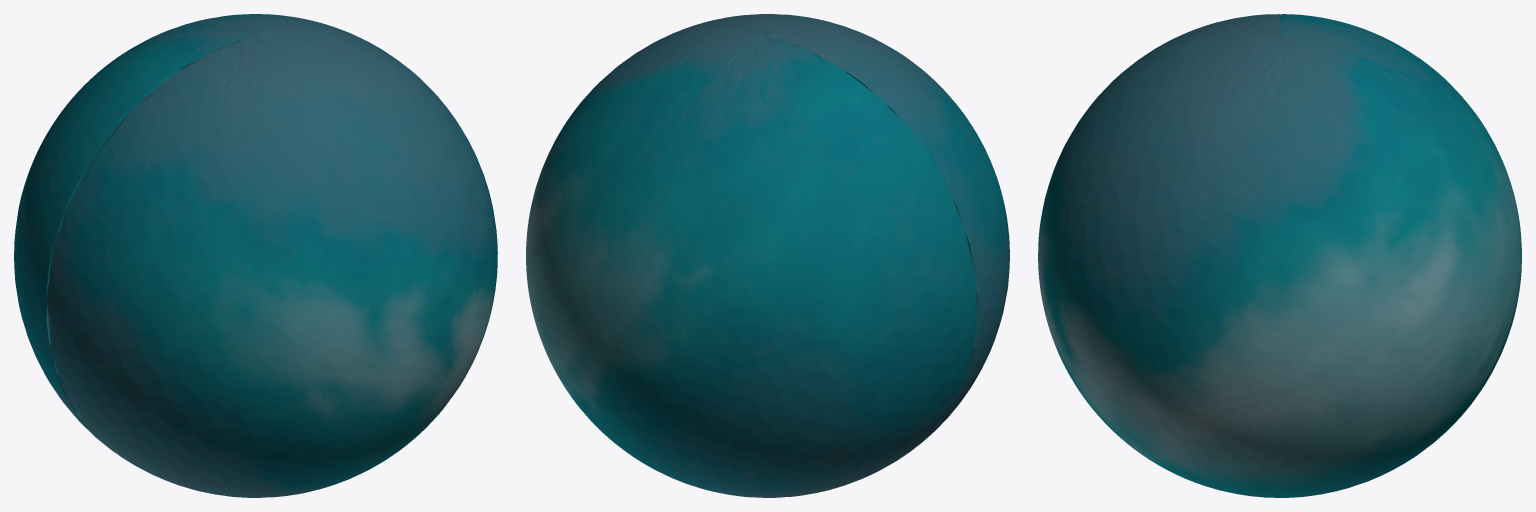
File: dome.glb
3 renders of one model, left to right at view 1: azimuth 30°, elevation 25°; view 2: azimuth 150°, elevation 25°; view 3: azimuth 270°, elevation 25°, orthographic.
Size of the model in its own units: 2 by 2 by 2.
